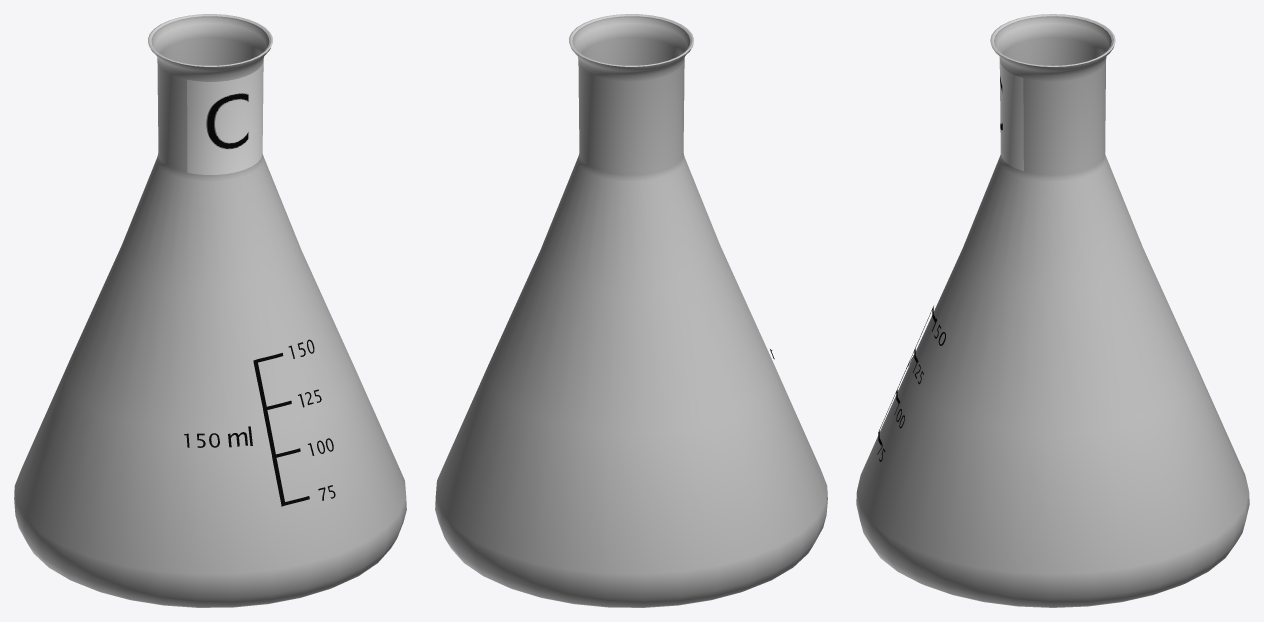
Rendered from conical_flask_C.fbx.
3 renders of one model, left to right at view 1: azimuth 30°, elevation 25°; view 2: azimuth 150°, elevation 25°; view 3: azimuth 270°, elevation 25°, orthographic.
Visible parts, largest first — view 1: conical beaker.002, sticker.002, Plane.002; view 2: conical beaker.002; view 3: conical beaker.002, sticker.002.
Part boxes in pixels (x1,y1,x2,y2): conical beaker.002: [14, 14, 406, 607]; sticker.002: [187, 61, 263, 174]; Plane.002: [253, 353, 309, 506]; conical beaker.002: [435, 14, 827, 607]; conical beaker.002: [856, 14, 1249, 607]; sticker.002: [999, 59, 1023, 171].
Bounding box in the file's own units: 12.72 × 17.6 × 12.72.
